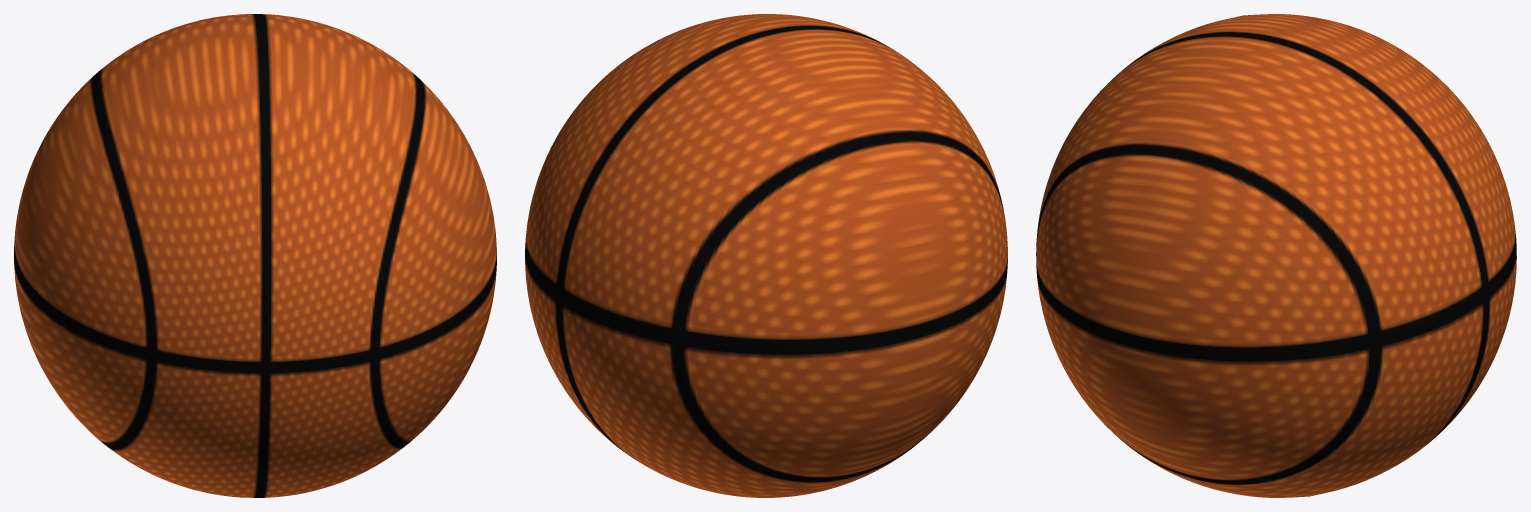
Rendered from ball.obj.
3 views of the same model, side by side, from view 1: azimuth 30°, elevation 25°; view 2: azimuth 150°, elevation 25°; view 3: azimuth 270°, elevation 25° (orthographic).
Parts seen in each view (by area): view 1: Sphere.001; view 2: Sphere.001; view 3: Sphere.001.
Boxes of the visible parts, x1=… form: Sphere.001: x1=14, y1=14, x2=496, y2=497; Sphere.001: x1=525, y1=14, x2=1007, y2=497; Sphere.001: x1=1036, y1=14, x2=1516, y2=497.
Bounding box in the file's own units: 0.7172 × 0.7199 × 0.7166.
1 material, 1 textured.
